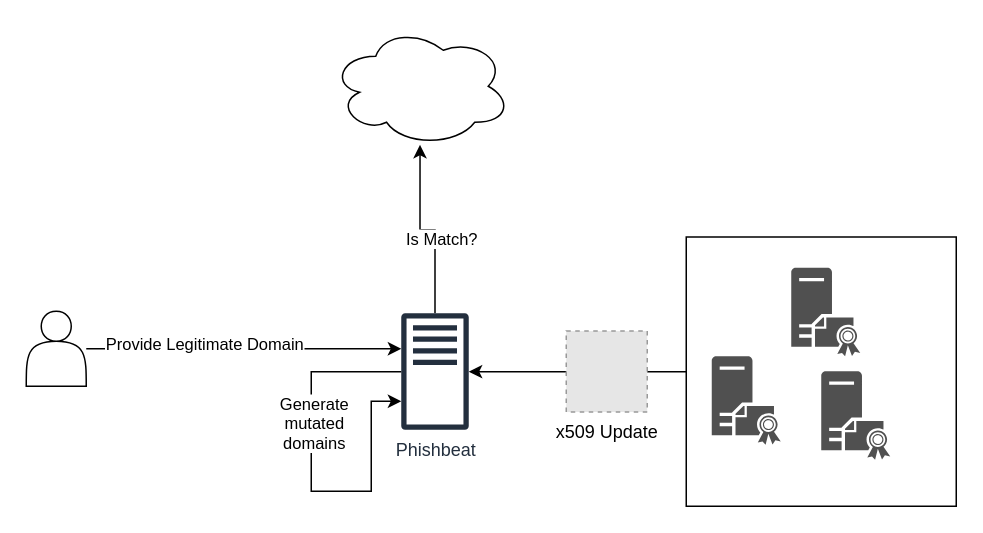
The diagram is 983 pixels wide and 533 high, and some of its shapes have lost their labels. Grey dashed boxes stand in for pictures. Each missing label, with the box of its shape:
Certificate Transparency: (685, 236, 956, 506)
Elasticsearch: (329, 25, 511, 146)
